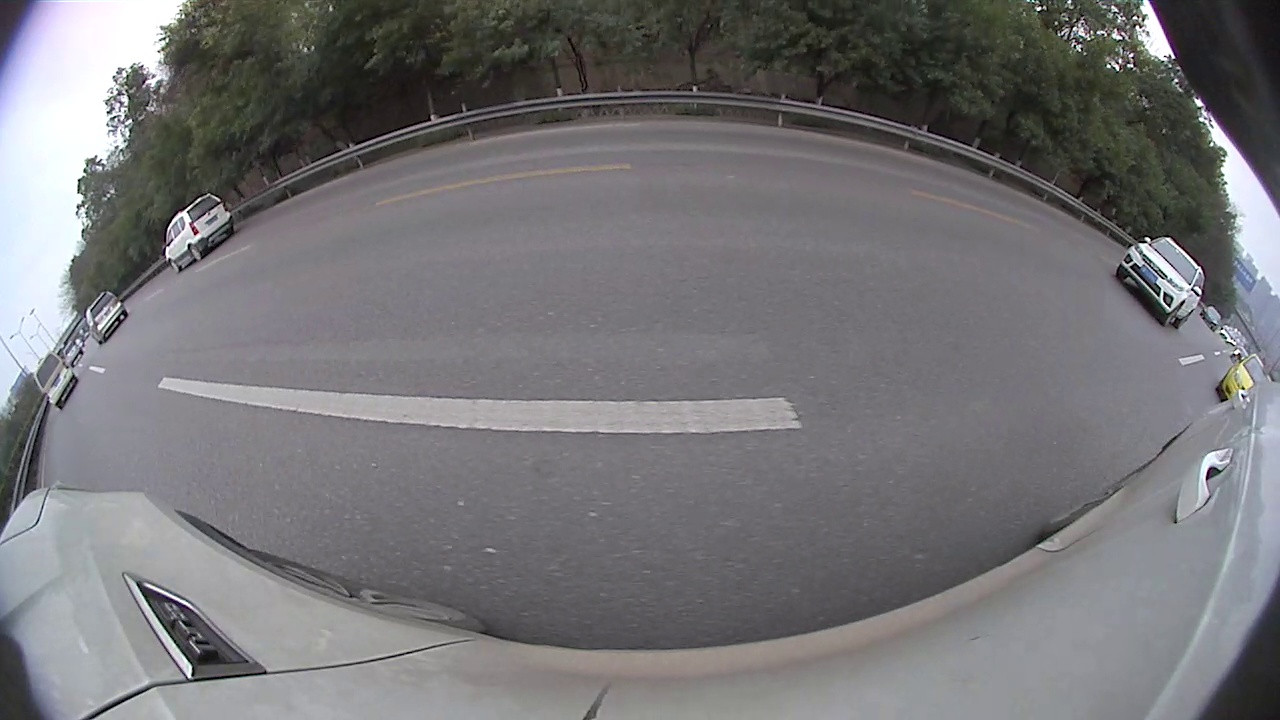bus: (790, 134, 917, 189)
car: (1, 211, 354, 500), (840, 147, 1081, 283), (592, 110, 798, 255), (485, 142, 578, 214), (800, 166, 872, 205)
front: (258, 258, 340, 346), (842, 186, 870, 227)
rear: (942, 219, 994, 272), (550, 177, 562, 206)
rider: (1185, 295, 1279, 391)
